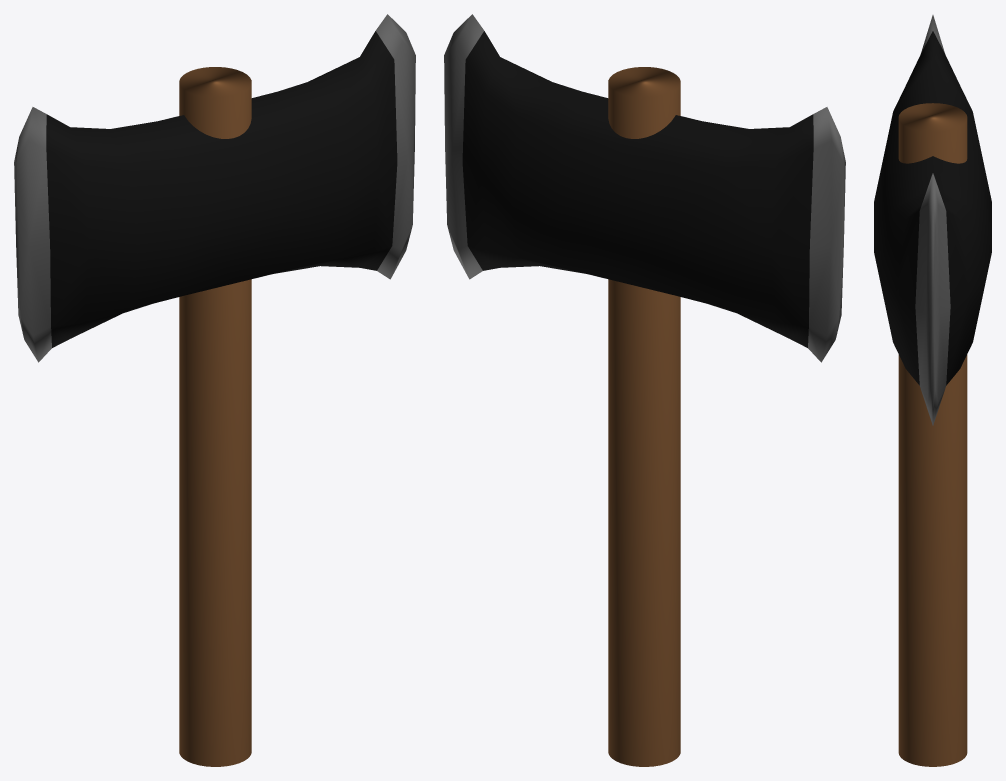
File: axe.fbx
The picture shows the model from 3 angles, left to right: view 1: azimuth 30°, elevation 25°; view 2: azimuth 150°, elevation 25°; view 3: azimuth 270°, elevation 25°; orthographic projection. The views are drawn at different scales.
Visible parts, largest first — view 1: 立方体, 円柱; view 2: 立方体, 円柱; view 3: 円柱, 立方体.
Boxes of the visible parts, x1,y1,x2,y2 form: 立方体: (14, 14, 415, 362); 円柱: (179, 67, 251, 766); 立方体: (444, 14, 845, 362); 円柱: (608, 67, 680, 766); 円柱: (898, 103, 967, 766); 立方体: (874, 15, 991, 425).
Size of the model in its own units: 182 by 302 by 48.97.
